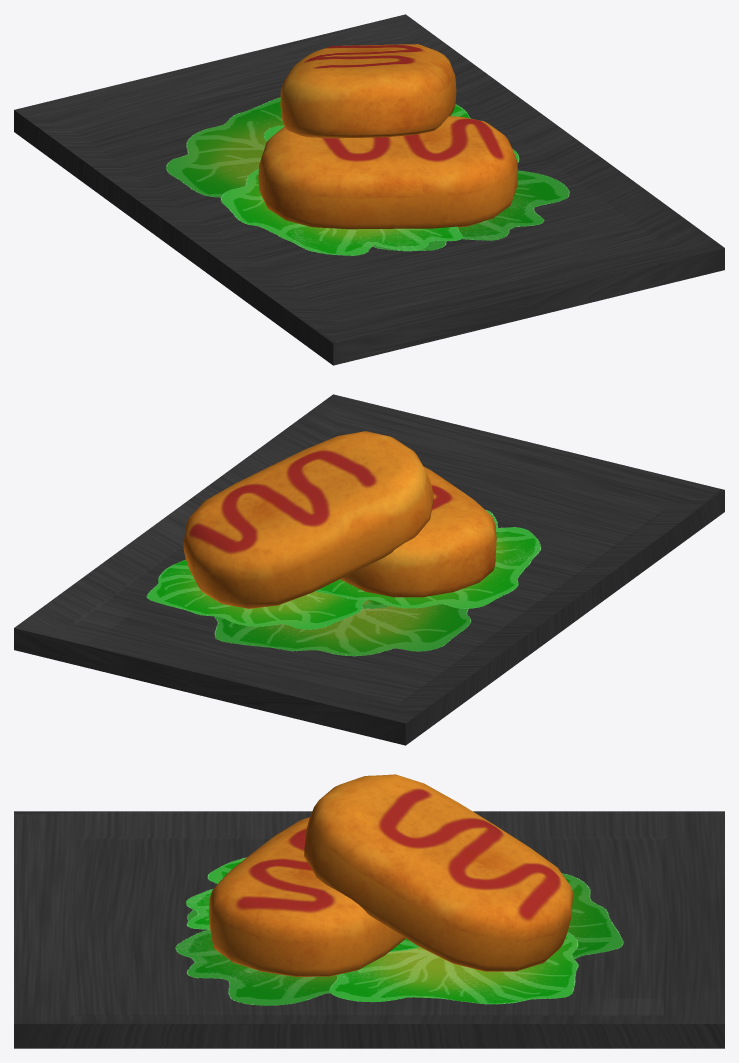
The model's file is croq.fbx.
The picture shows the model from 3 angles, top to bottom: view 1: azimuth 30°, elevation 25°; view 2: azimuth 150°, elevation 25°; view 3: azimuth 270°, elevation 25°; orthographic projection. The views are drawn at different scales.
Visible parts, largest first — view 1: pCube2, pCube1, pCube3, pPlane4, pPlane2, pPlane3; view 2: pCube2, pCube3, pCube1, pPlane4, pPlane1, pPlane2; view 3: pCube2, pCube3, pCube1, pPlane1, pPlane3, pPlane4, pPlane2.
Boxes of the visible parts, <box> form: pCube2: <box>14,14,724,365</box>; pCube1: <box>258,116,517,229</box>; pCube3: <box>280,44,456,138</box>; pPlane4: <box>166,97,283,197</box>; pPlane2: <box>220,169,491,255</box>; pPlane3: <box>372,170,569,251</box>; pCube2: <box>14,394,724,745</box>; pCube3: <box>183,431,433,608</box>; pCube1: <box>340,466,496,597</box>; pPlane4: <box>214,600,471,656</box>; pPlane1: <box>146,559,366,629</box>; pPlane2: <box>315,510,541,608</box>; pCube2: <box>14,811,724,1048</box>; pCube3: <box>304,774,572,971</box>; pCube1: <box>209,817,405,976</box>; pPlane1: <box>329,932,578,1004</box>; pPlane3: <box>175,909,337,1005</box>; pPlane4: <box>562,873,623,959</box>; pPlane2: <box>186,857,419,951</box>.
Bounding box in the file's own units: 3.63 × 1.18 × 5.13.
Materials: 4 (4 with a texture image).
